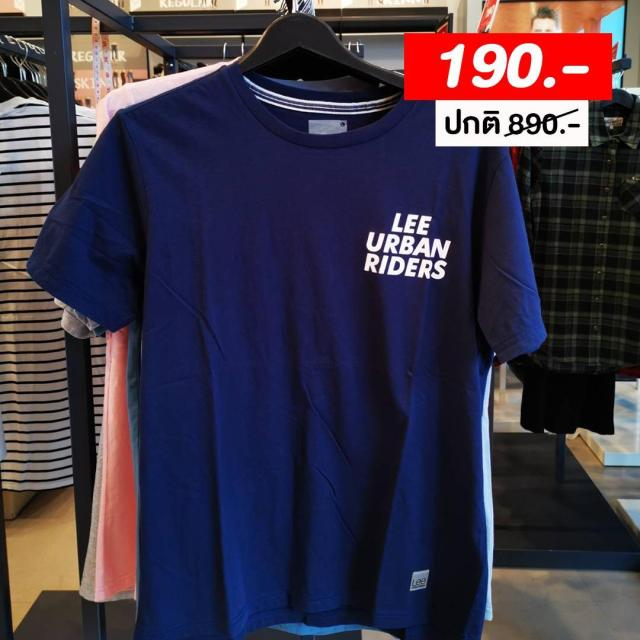Tshirt: (32, 77, 548, 625)
